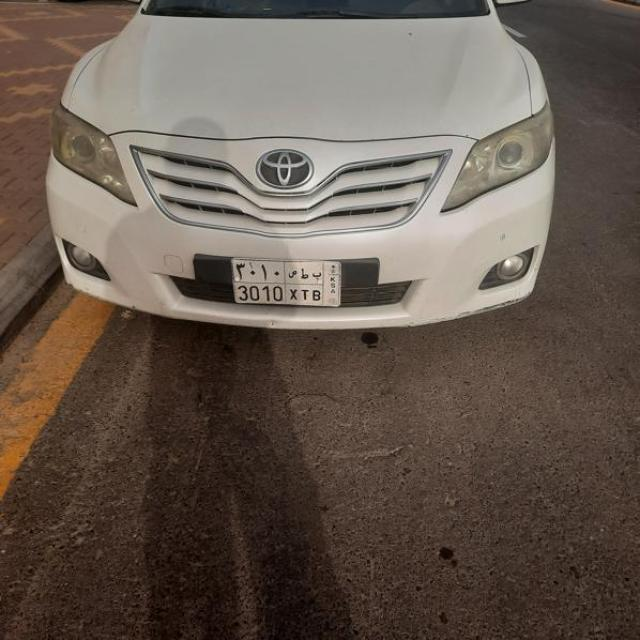license_plate: (232, 258, 342, 307)
